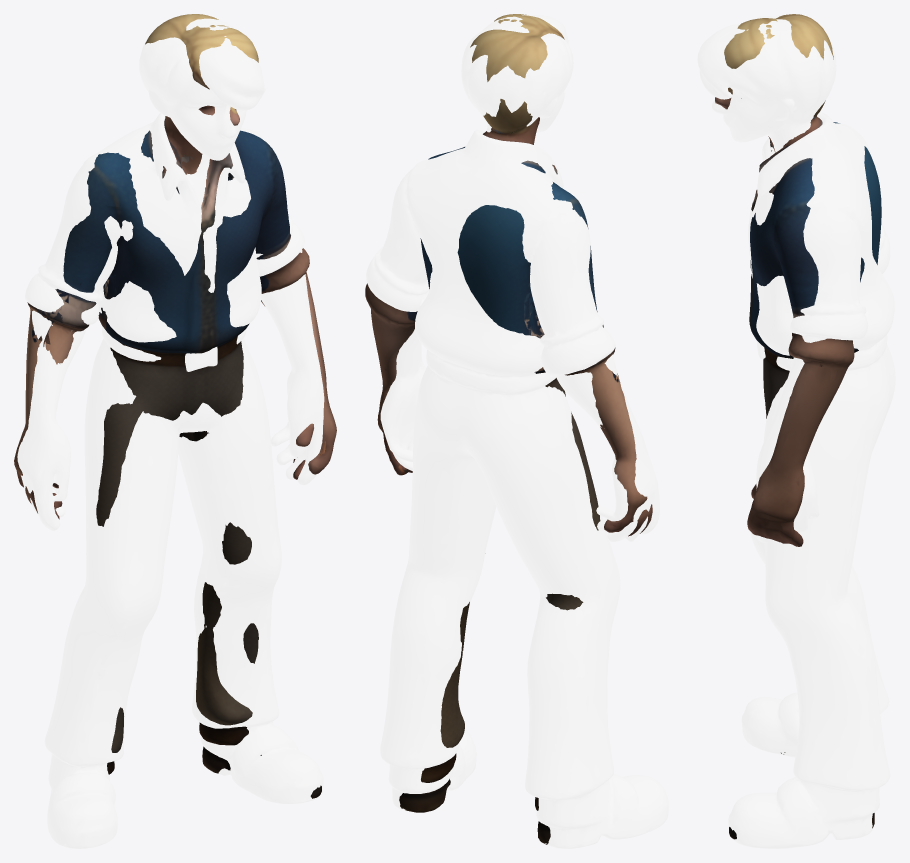
The model's file is villager2_wrapped.glb.
3 views of the same model, side by side, from view 1: azimuth 30°, elevation 25°; view 2: azimuth 150°, elevation 25°; view 3: azimuth 270°, elevation 25° (orthographic). The views are drawn at different scales.
Parts seen in each view (by area): view 1: Outfit, Body; view 2: Outfit, Body; view 3: Outfit, Body.
Part boxes in pixels (x1,y1,x2,y2): Outfit: (17, 18, 324, 848); Body: (14, 14, 336, 798); Outfit: (366, 14, 668, 848); Body: (365, 14, 652, 844); Outfit: (697, 15, 895, 848); Body: (715, 14, 881, 839).
Size of the model in its own units: 0.7207 by 1.85 by 0.4283.
2 materials, 1 textured.
